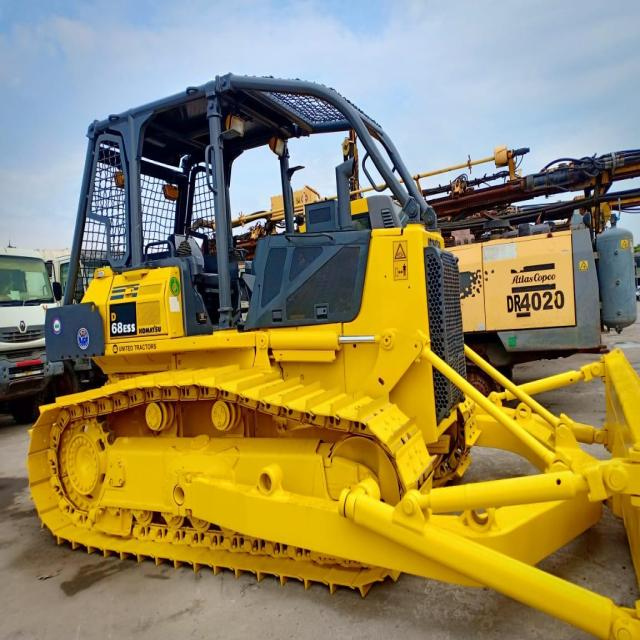buldozerpayloadergrader: (31, 60, 640, 639)
